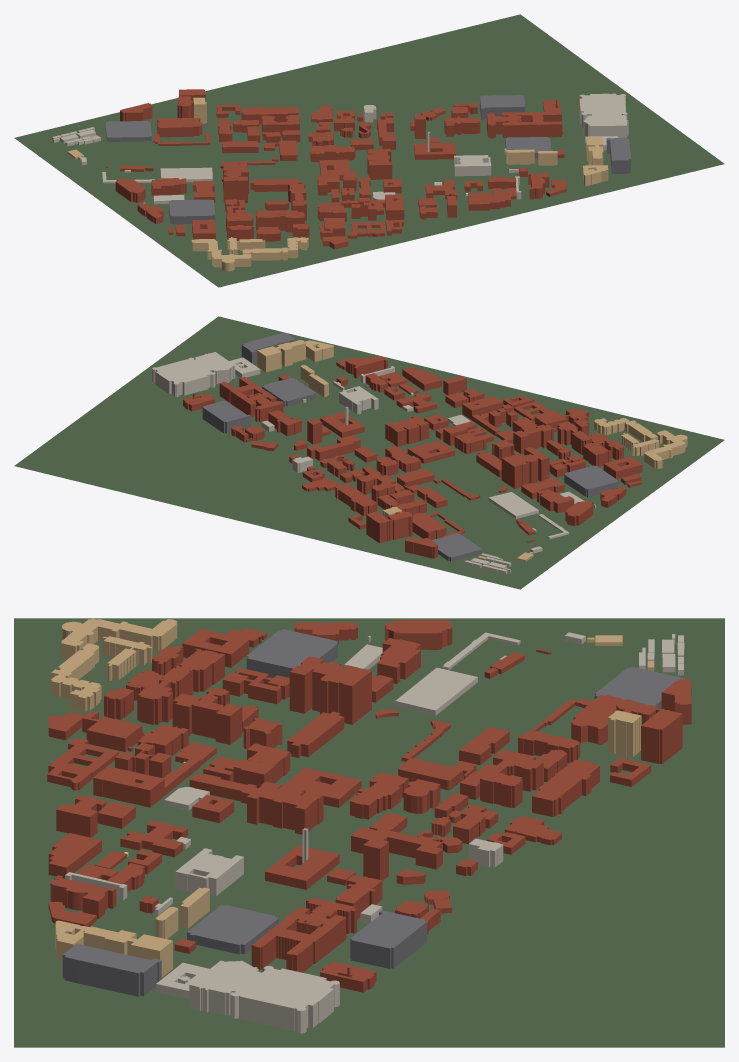
File: usc_campus.obj
3 views of the same model, one above another, from view 1: azimuth 30°, elevation 25°; view 2: azimuth 150°, elevation 25°; view 3: azimuth 270°, elevation 25° (orthographic). The views are drawn at different scales.
Parts seen in each view (by area): view 1: Ground, Galen_Center, relation/6095469, Downey_Way_Parking_Structure, Parkside_International_Residential_College, Seeley_G._Mudd_Building, Jefferson_Blvd._Parking_Structure, Royal_Street_Parking_Structure, Parkside_Arts_and_Humanities_Residential_College, Lyon_Recreation_Center, Parking_Structure_Two, Edward_L_Doheny_Junior_Memorial_Library (+24 smaller); view 2: Ground, Galen_Center, relation/6095469, Seeley_G._Mudd_Building, Downey_Way_Parking_Structure, University_of_Southern_California_Hotel, Royal_Street_Parking_Structure, Bovard_Administration_Building, Parkside_International_Residential_College, McCarthy_Way_Parking_Structure, Jefferson_Blvd._Parking_Structure, Parkside_Arts_and_Humanities_Residential_College (+30 smaller); view 3: Ground, Galen_Center, relation/6095469, Seeley_G._Mudd_Building, Parking_Structure_Two, Royal_Street_Parking_Structure, Bovard_Administration_Building, McCarthy_Way_Parking_Structure, Downey_Way_Parking_Structure, Parkside_International_Residential_College, Vivian_Hall, School_of_Cinematic_Arts_-_SCA (+58 smaller).
Part boxes in pixels (<box>): Ground: <box>14,14,724,287</box>; Galen_Center: <box>579,93,628,137</box>; relation/6095469: <box>487,112,562,138</box>; Downey_Way_Parking_Structure: <box>169,199,215,224</box>; Parkside_International_Residential_College: <box>191,239,251,271</box>; Seeley_G._Mudd_Building: <box>223,163,248,203</box>; Jefferson_Blvd._Parking_Structure: <box>105,121,151,141</box>; Royal_Street_Parking_Structure: <box>480,95,525,120</box>; Parkside_Arts_and_Humanities_Residential_College: <box>242,237,308,260</box>; Lyon_Recreation_Center: <box>157,118,202,137</box>; Parking_Structure_Two: <box>606,138,630,173</box>; Edward_L_Doheny_Junior_Memorial_Library: <box>454,155,491,176</box>; Ground: <box>14,316,724,589</box>; Galen_Center: <box>152,352,235,397</box>; relation/6095469: <box>219,377,283,422</box>; Seeley_G._Mudd_Building: <box>501,449,549,488</box>; Downey_Way_Parking_Structure: <box>564,465,618,497</box>; University_of_Southern_California_Hotel: <box>257,340,305,372</box>; Royal_Street_Parking_Structure: <box>202,400,250,433</box>; Bovard_Administration_Building: <box>385,415,429,446</box>; Parkside_International_Residential_College: <box>644,430,687,469</box>; McCarthy_Way_Parking_Structure: <box>262,378,315,406</box>; Jefferson_Blvd._Parking_Structure: <box>432,533,481,561</box>; Parkside_Arts_and_Humanities_Residential_College: <box>594,418,657,441</box>; Ground: <box>14,618,724,1047</box>; Galen_Center: <box>189,960,339,1033</box>; relation/6095469: <box>251,898,356,972</box>; Seeley_G._Mudd_Building: <box>289,656,371,724</box>; Parking_Structure_Two: <box>62,943,161,996</box>; Royal_Street_Parking_Structure: <box>350,910,426,968</box>; Bovard_Administration_Building: <box>247,781,323,834</box>; McCarthy_Way_Parking_Structure: <box>187,905,278,954</box>; Downey_Way_Parking_Structure: <box>246,629,337,677</box>; Parkside_International_Residential_College: <box>61,618,177,658</box>; Vivian_Hall: <box>172,693,242,744</box>; School_of_Cinematic_Arts_-_SCA: <box>480,755,543,807</box>.
Bounding box in the file's own units: 1217 × 51.15 × 851.
